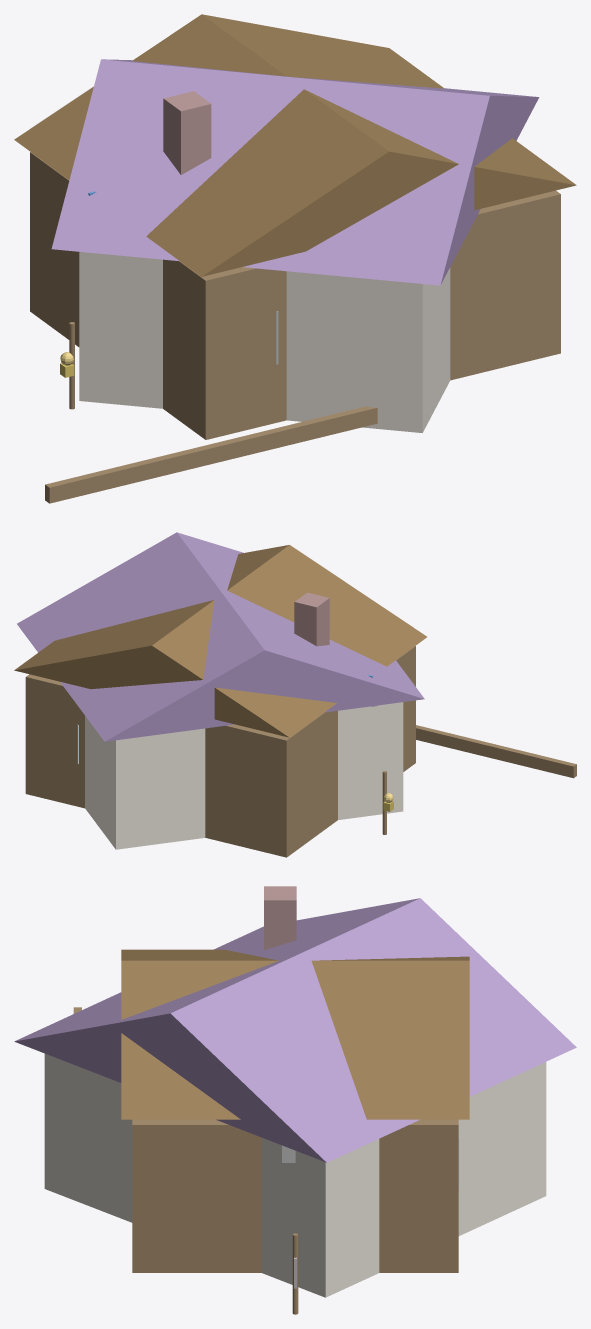
The model's file is house_calliope.glb.
The picture shows the model from 3 angles, top to bottom: view 1: azimuth 30°, elevation 25°; view 2: azimuth 150°, elevation 25°; view 3: azimuth 270°, elevation 25°; orthographic projection. The views are drawn at different scales.
Parts seen in each view (by area): view 1: calliope_atap.002, calliope_atap.003, calliope_dinding.003, calliope_dinding.002, calliope_pelaminan.001, calliope_cerobong.001; view 2: calliope_atap.002, calliope_atap.003, calliope_dinding.003, calliope_dinding.002, calliope_pelaminan.001, calliope_cerobong.001; view 3: calliope_atap.002, calliope_dinding.002, calliope_atap.003, calliope_dinding.003, calliope_cerobong.001.
Part boxes in pixels (box(x1,y1,x2,y2)): calliope_atap.002: box(51, 59, 539, 285); calliope_atap.003: box(14, 14, 576, 276); calliope_dinding.003: box(30, 152, 560, 439); calliope_dinding.002: box(79, 252, 450, 432); calliope_pelaminan.001: box(45, 406, 377, 503); calliope_cerobong.001: box(163, 91, 211, 174); calliope_atap.002: box(17, 532, 424, 741); calliope_atap.003: box(14, 545, 426, 737); calliope_dinding.003: box(25, 646, 415, 857); calliope_dinding.002: box(85, 702, 403, 849); calliope_pelaminan.001: box(416, 725, 576, 778); calliope_cerobong.001: box(294, 592, 329, 646); calliope_atap.002: box(14, 898, 576, 1162); calliope_dinding.002: box(44, 1053, 546, 1297); calliope_atap.003: box(121, 949, 469, 1119); calliope_dinding.003: box(132, 1119, 458, 1272); calliope_cerobong.001: box(264, 886, 296, 950).
Bounding box in the file's own units: 12.34 × 5.4 × 10.34.
